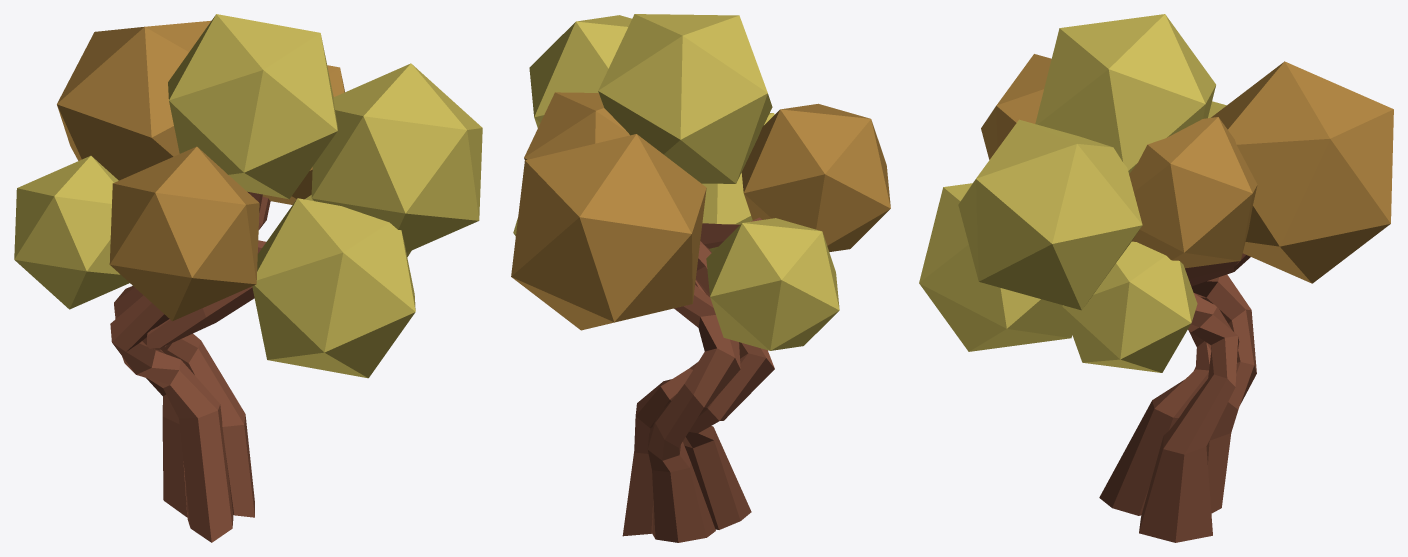
File: Tree_06_autumn_vc.fbx
The picture shows the model from 3 angles, left to right: view 1: azimuth 30°, elevation 25°; view 2: azimuth 150°, elevation 25°; view 3: azimuth 270°, elevation 25°; orthographic projection. The views are drawn at different scales.
Visible parts, largest first — view 1: Tree_06_autumn_vc; view 2: Tree_06_autumn_vc; view 3: Tree_06_autumn_vc.
Part boxes in pixels (box(x1,y1,x2,y2)): Tree_06_autumn_vc: box(14, 14, 482, 542); Tree_06_autumn_vc: box(511, 14, 890, 542); Tree_06_autumn_vc: box(919, 14, 1393, 542).
Size of the model in its own units: 12.69 by 15.55 by 13.19.
